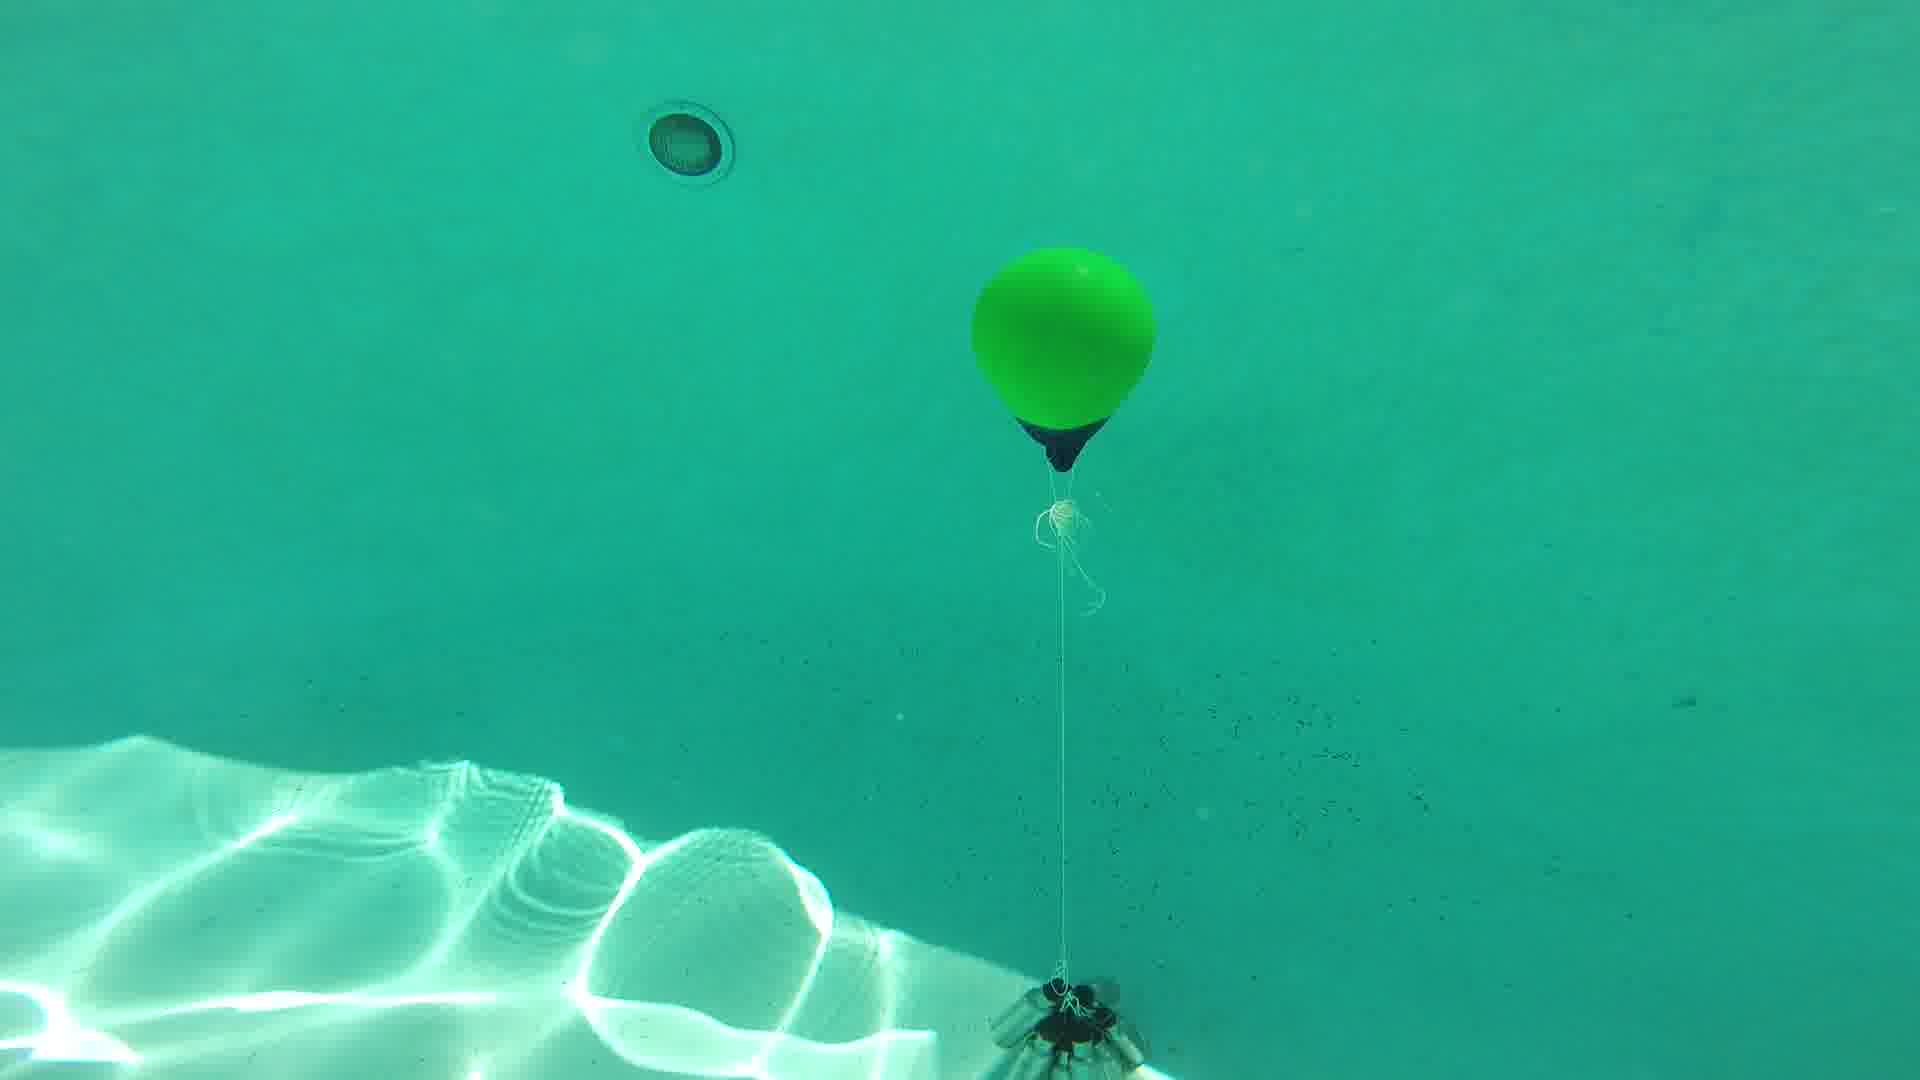yellow_buoy: (971, 244, 1156, 473)
